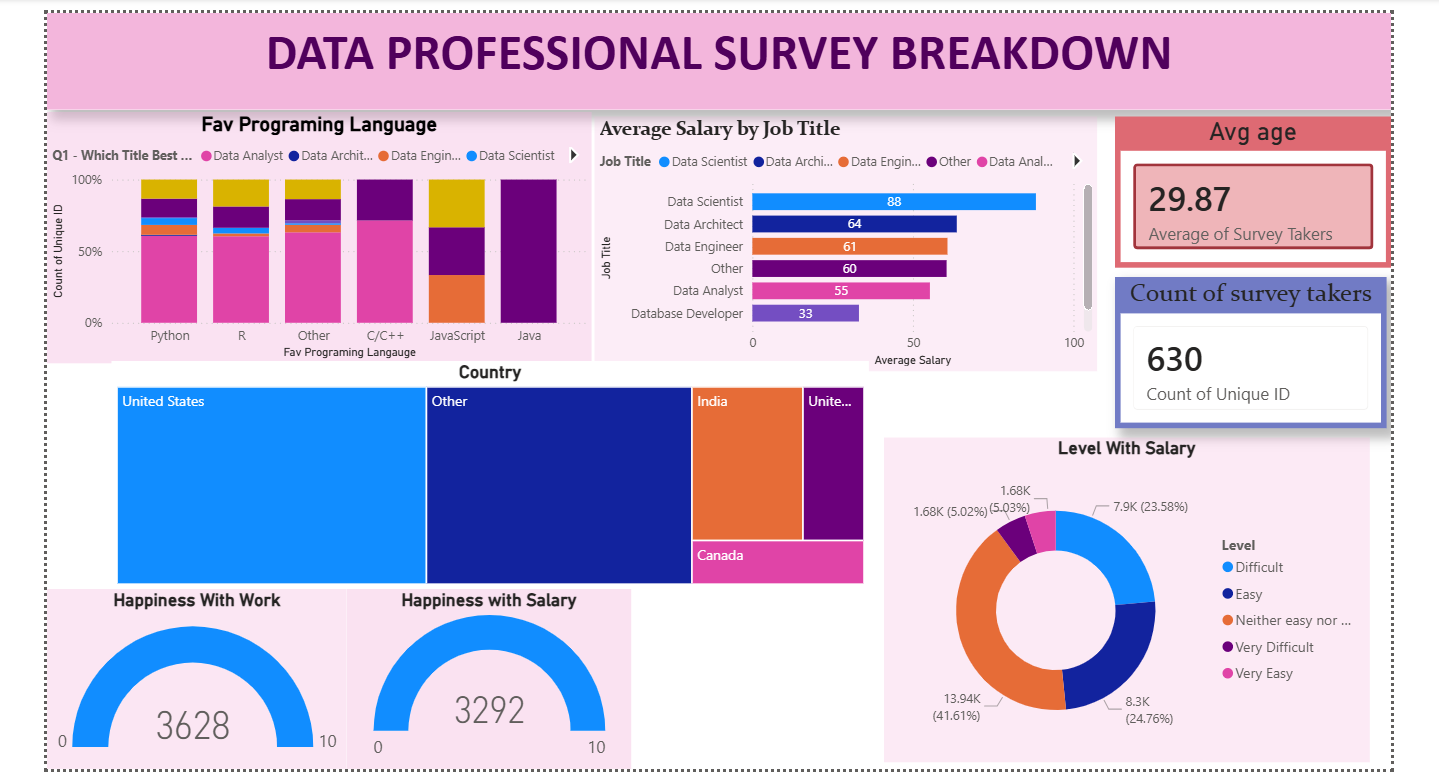

The dashboard page shown, as its layout file describes it:
{"tool":"powerbi","page":{"name":"Page 1","canvas":[1280,720],"ordinal":0},"visuals":[{"type":"textbox","box":[0,0,1280.3,91.9],"z":0},{"type":"cardVisual","title":"Count of survey takers","fields":{"Data":["Count(Data Professional Survey.Unique ID)"]},"box":[1017.1,251.3,258.7,144.2],"z":1000},{"type":"cardVisual","title":"Avg age","fields":{"Data":["Avg(Data Professional Survey.Q10 - Current Age)"]},"box":[1016.8,98.1,263.2,144.2],"z":2000},{"type":"barChart","title":"Average  Salary by Job Title","fields":{"Category":["Data Professional Survey.Q1 - Which Title Best Fits your Current Role?.1.1.1"],"Y":["Avg(Data Professional Survey.Avg salary)"],"Series":["Data Professional Survey.Q1 - Which Title Best Fits your Current Role?.1.1.1"]},"box":[521.9,98.1,478.8,242.4],"z":3000},{"type":"hundredPercentStackedColumnChart","title":"Fav Programing Language","fields":{"Category":["Data Professional Survey.Q5 - Favorite Programming Language.1.1"],"Y":["CountNonNull(Data Professional Survey.Unique ID)"],"Series":["Data Professional Survey.Q1 - Which Title Best Fits your Current Role?.1.1.1"]},"box":[0,93.7,519,239.4],"z":4000},{"type":"treemap","title":"Country","fields":{"Group":["Data Professional Survey.Q11 - Which Country do you live in?.1"],"Values":["CountNonNull(Data Professional Survey.Q11 - Which Country do you live in?.1)"]},"box":[61,331.6,721.2,217.1],"z":5000},{"type":"gauge","title":"Happiness With Work","fields":{"Y":["Sum(Data Professional Survey.Q6 - How Happy are you in your Current Position with the following? (Coworkers))"],"MinValue":["Min(Data Professional Survey.Q6 - How Happy are you in your Current Position with the following? (Learning New Things))"],"MaxValue":["Max(Data Professional Survey.Q6 - How Happy are you in your Current Position with the following? (Management))"]},"box":[0,548.7,285.5,171],"z":6000},{"type":"gauge","title":"Happiness with Salary","fields":{"Y":["Sum(Data Professional Survey.Q6 - How Happy are you in your Current Position with the following? (Management))"],"MinValue":["Min(Data Professional Survey.Q6 - How Happy are you in your Current Position with the following? (Management))"],"MaxValue":["Max(Data Professional Survey.Q6 - How Happy are you in your Current Position with the following? (Salary))"]},"box":[285.5,548.7,270.6,171],"z":7000},{"type":"donutChart","title":"Level With Salary","fields":{"Y":["Sum(Data Professional Survey.Avg salary)"],"Series":["Data Professional Survey.Q7 - How difficult was it for you to break into Data?"]},"box":[797,404.5,462.5,309.3],"z":8000}]}

Visuals, with their boxes on the page's 1280x720 design canvas (x1, y1, x2, y2). These are canvas units, not pixel positions in the 1439x773 screenshot, which may show the page scaled, cropped or inside an application window:
textbox: x1=0 y1=0 x2=1280 y2=92
"Count of survey takers" cardVisual: x1=1017 y1=251 x2=1276 y2=396
"Avg age" cardVisual: x1=1017 y1=98 x2=1280 y2=242
"Average  Salary by Job Title" barChart: x1=522 y1=98 x2=1001 y2=340
"Fav Programing Language" hundredPercentStackedColumnChart: x1=0 y1=94 x2=519 y2=333
"Country" treemap: x1=61 y1=332 x2=782 y2=549
"Happiness With Work" gauge: x1=0 y1=549 x2=286 y2=720
"Happiness with Salary" gauge: x1=286 y1=549 x2=556 y2=720
"Level With Salary" donutChart: x1=797 y1=404 x2=1260 y2=714
